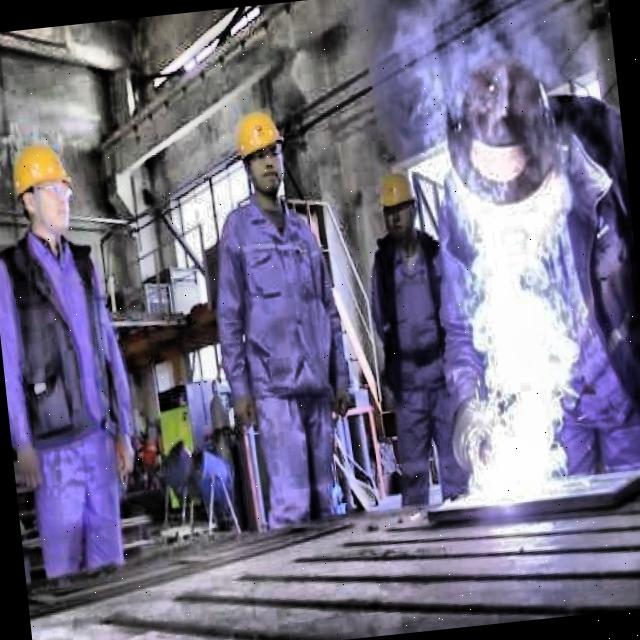helmet: (6, 134, 78, 245), (230, 101, 292, 201), (374, 161, 420, 249)
